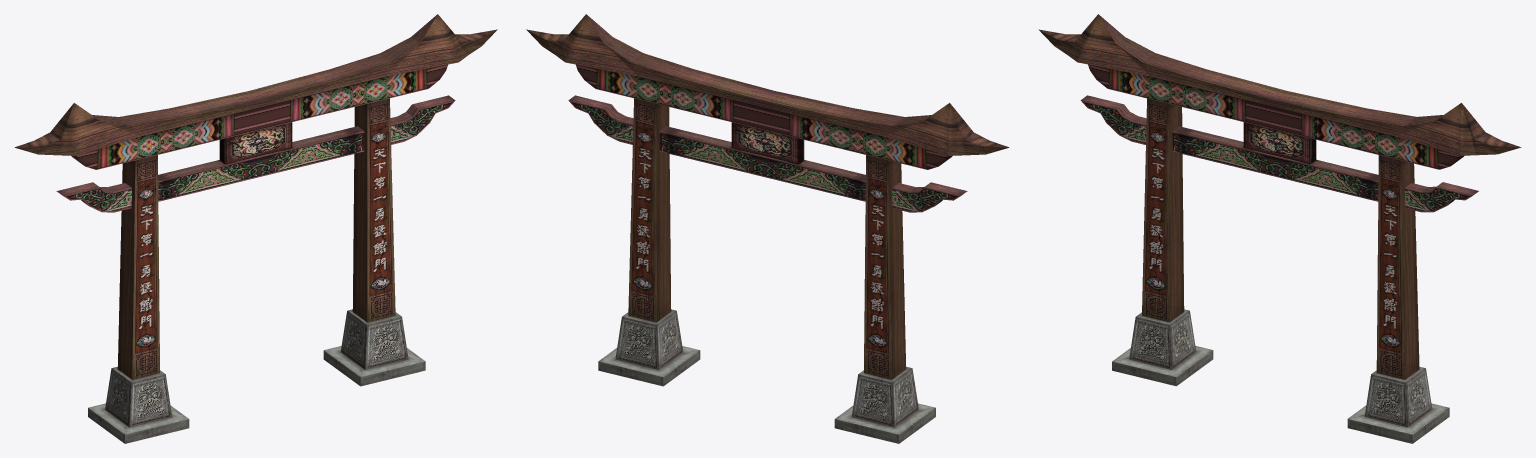
File: c1-035-woodgate.fbx
The picture shows the model from 3 angles, left to right: view 1: azimuth 30°, elevation 25°; view 2: azimuth 150°, elevation 25°; view 3: azimuth 330°, elevation 25°; orthographic projection.
Visible parts, largest first — view 1: Sphere01; view 2: Sphere01; view 3: Sphere01.
Part boxes in pixels (left/top/right/bottom): Sphere01: left=14, top=14, right=497, bottom=443; Sphere01: left=526, top=14, right=1009, bottom=443; Sphere01: left=1038, top=14, right=1521, bottom=443.
Size of the model in its own units: 20.57 by 13.63 by 2.72.
